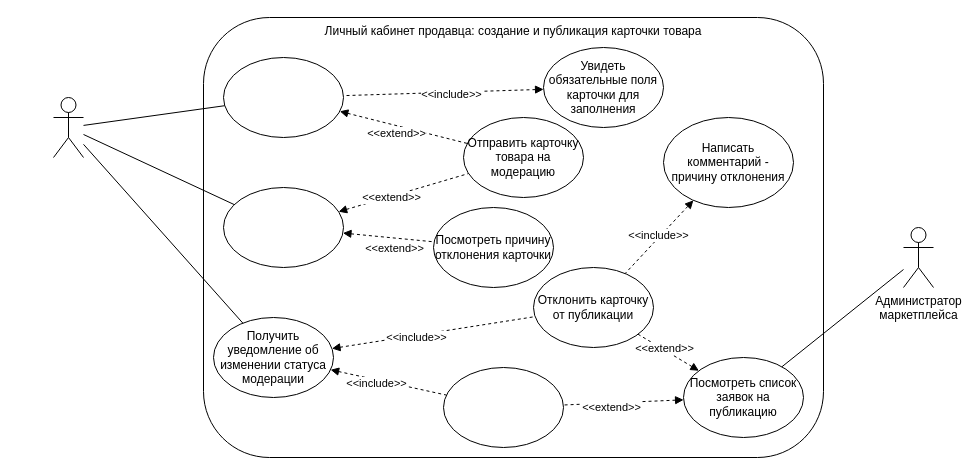
This 979x475 diagram has some shape labels left out. Here are the shapes that lost their labels. From the top down, the centre of each, then its label:
the point at 283,97: Создать карточку товара через конструктор
the point at 68,127: Продавец товаров
the point at 283,227: Посмотреть статус заявки на публикацию
the point at 503,407: Опубликовать карточку на витрине
